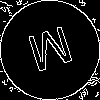M: (25, 25, 79, 82)
